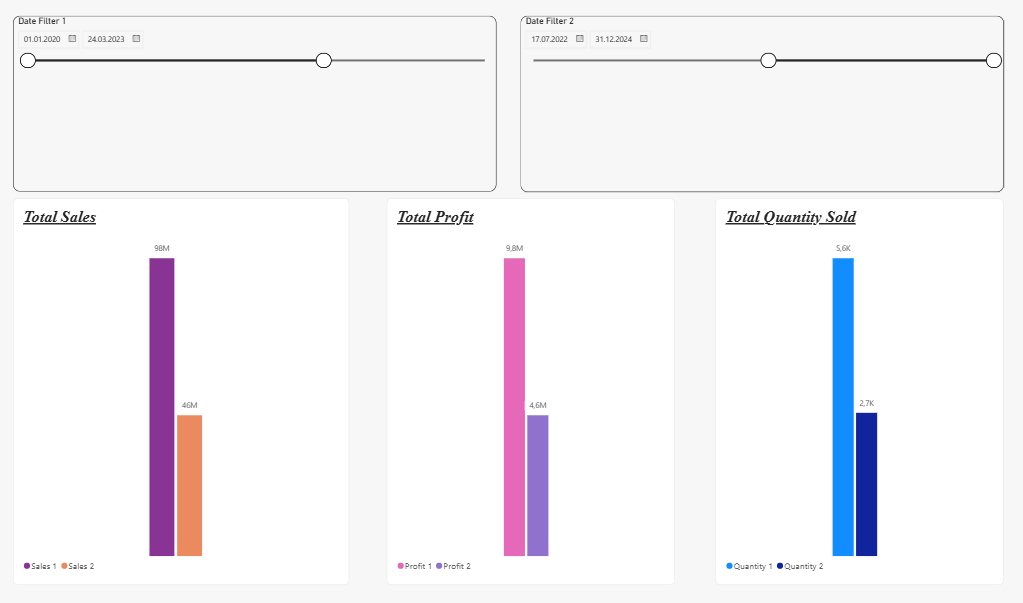

What the dashboard file says about the page in this screenshot:
{"tool":"powerbi","page":{"name":"Comparison Sales/Profit/Quantity","canvas":[1920,1080],"ordinal":2},"visuals":[{"type":"slicer","fields":{"Values":["Data Table 1.Date"]},"box":[81.4,56.1,796.3,289.5],"z":0},{"type":"slicer","fields":{"Values":["Data Table 2.Date"]},"box":[917.5,56.1,796,290],"z":1000},{"type":"lineClusteredColumnComboChart","title":"Total Sales","fields":{"Y":["Sum(Fact Table.Net Sales )","Data Table 1.Sum of Net Sales"]},"box":[81.4,356.5,553.8,637],"z":2000},{"type":"lineClusteredColumnComboChart","title":"Total Profit","fields":{"Y":["Sum(Fact Table.Profit)","Measure Table.Total Profit"]},"box":[698.5,356.5,474.1,637],"z":3000},{"type":"lineClusteredColumnComboChart","title":"Total Quantity Sold","fields":{"Y":["Sum(Fact Table.Units Sold)","Measure Table.Quantity Sold"]},"box":[1239.6,356.5,474.1,637],"z":4000}]}

Visuals, with their boxes on the page's 1920x1080 design canvas (x1, y1, x2, y2). These are canvas units, not pixel positions in the 1023x603 screenshot, which may show the page scaled, cropped or inside an application window:
slicer - Data Table 1.Date: left=81, top=56, right=878, bottom=346
slicer - Data Table 2.Date: left=918, top=56, right=1714, bottom=346
"Total Sales" lineClusteredColumnComboChart: left=81, top=356, right=635, bottom=994
"Total Profit" lineClusteredColumnComboChart: left=698, top=356, right=1173, bottom=994
"Total Quantity Sold" lineClusteredColumnComboChart: left=1240, top=356, right=1714, bottom=994
